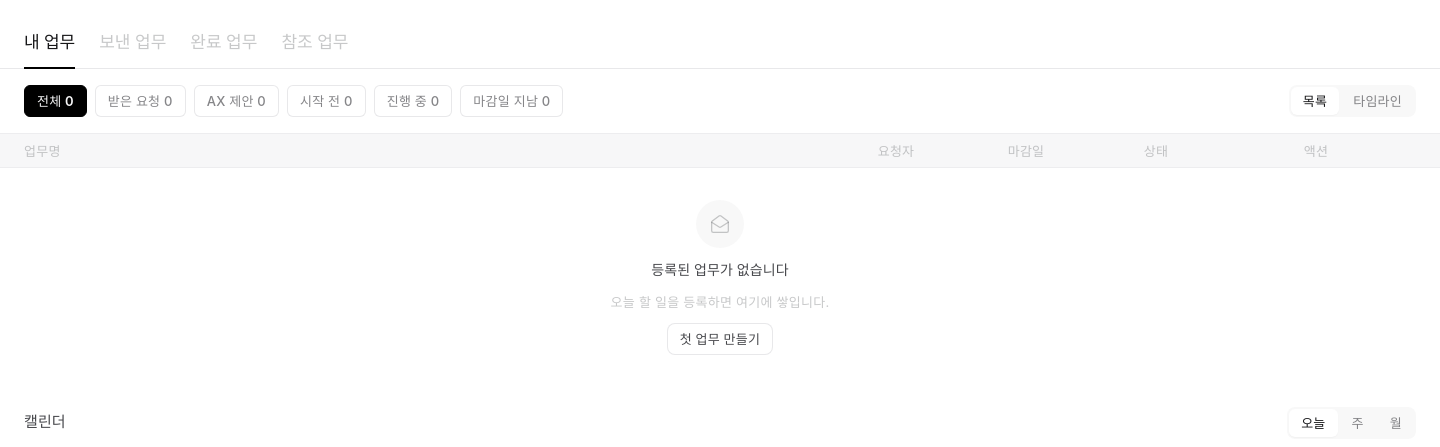
it: work relation information architecture › keeps the 참조 section standing when nothing has been referenced yet
The width and height of the screenshot is (1440, 447).
(page scrolled)
Click the tab "참조 업무": (315, 42) [281,16,348,68]
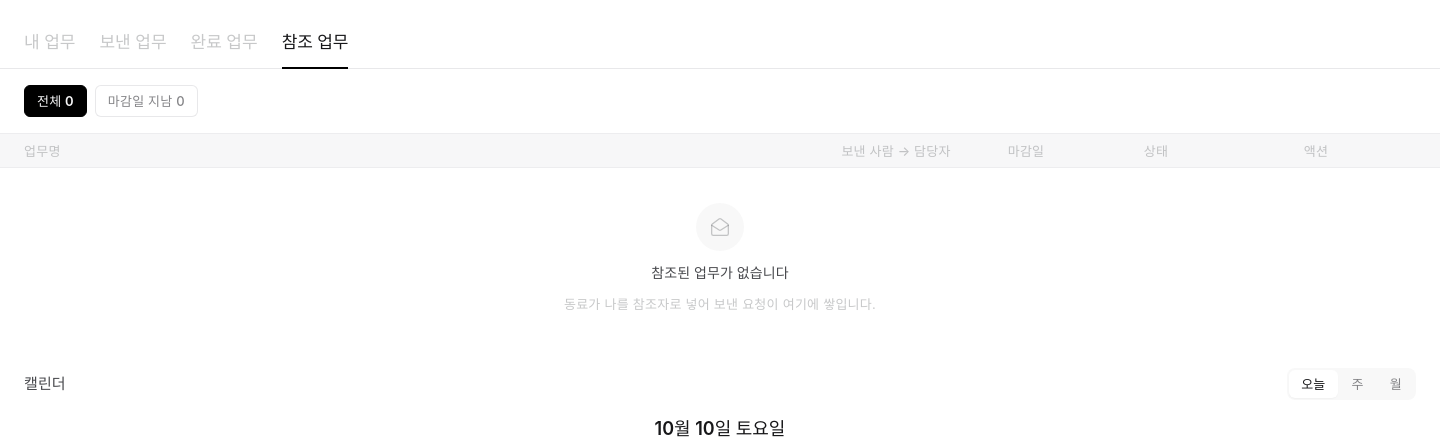
Result: the text "참조된 업무가 없습니다" is shown at [651,263,789,283]
